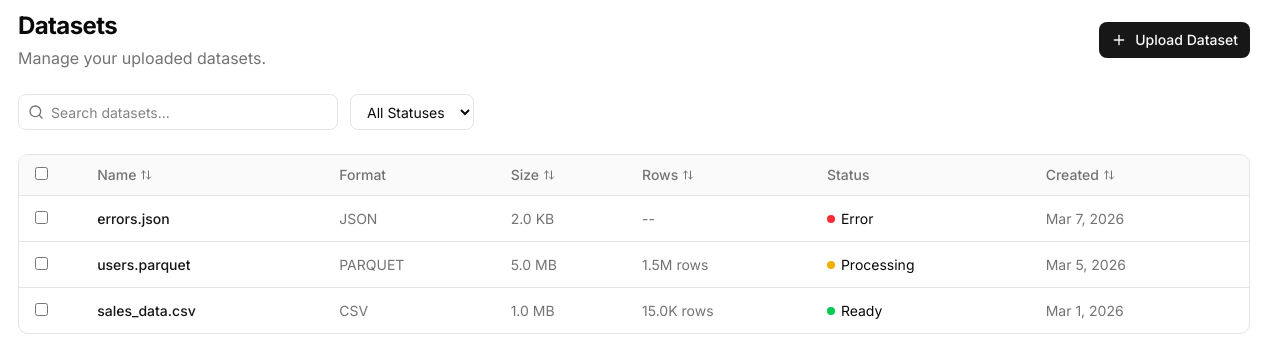
Test: DatasetsPage › search › shows no results message when search has no matches
Type "nonexistent" into the field with test id "search-input".
click(178, 112); type("nonexistent")  # box [18,94,338,130]
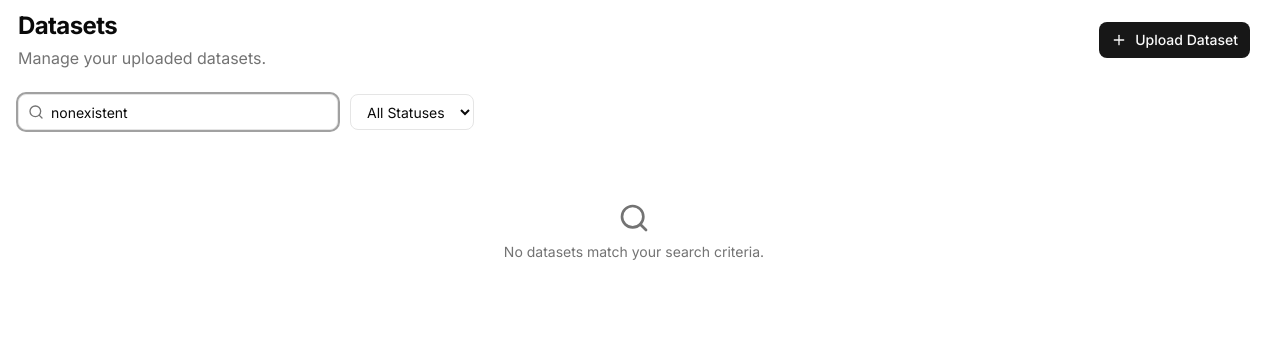
Expected: the text "No datasets match your search criteria." is shown, [504,242,764,262]
